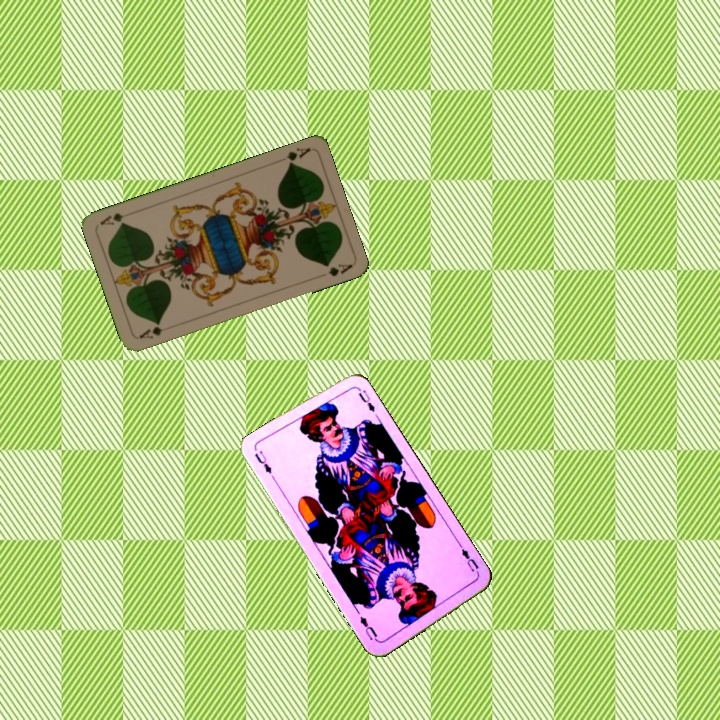EU: (455, 540, 481, 575), (250, 446, 274, 476)
GA: (135, 320, 174, 341), (282, 144, 313, 168)
